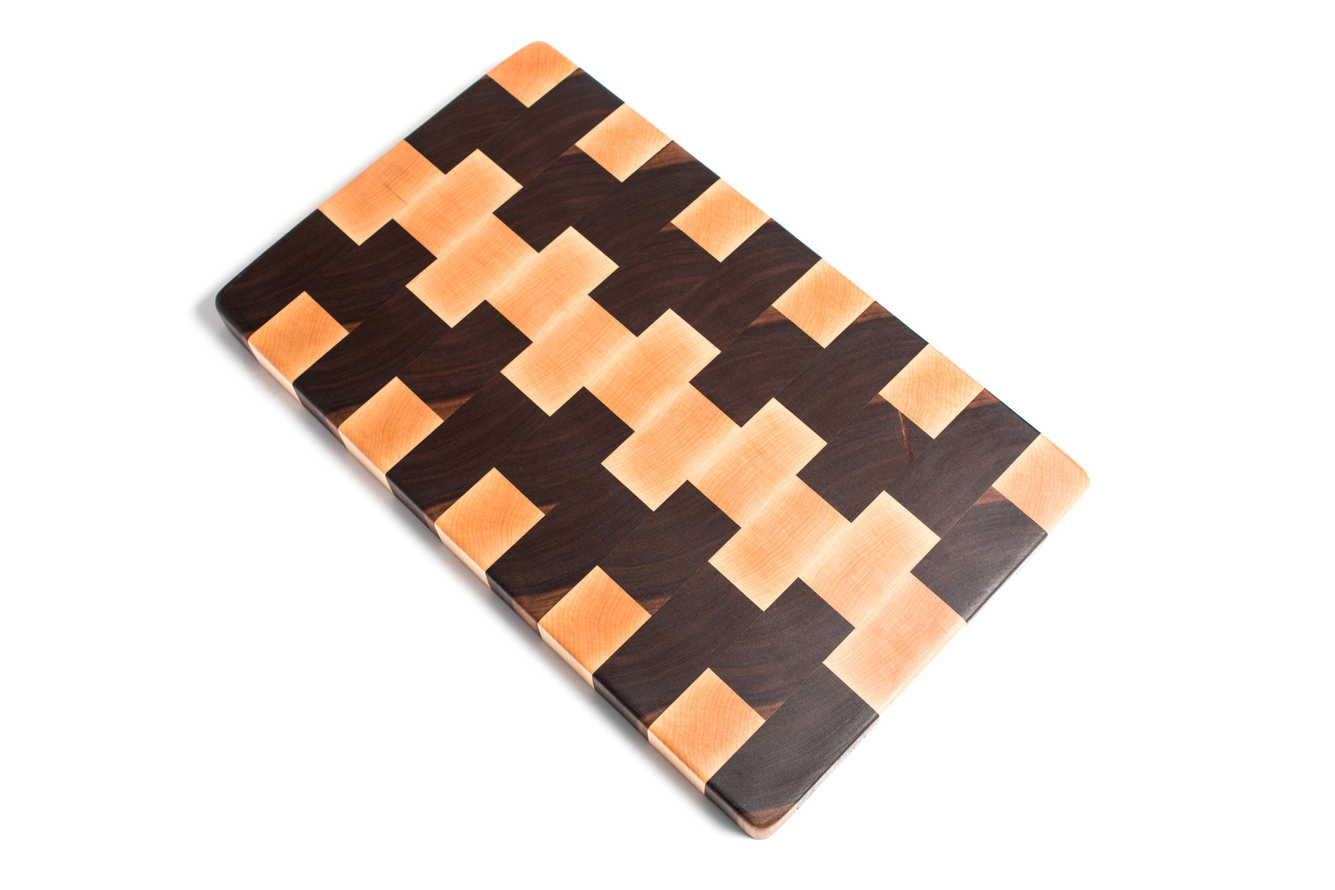gloved_hand: (203, 35, 1093, 850)
